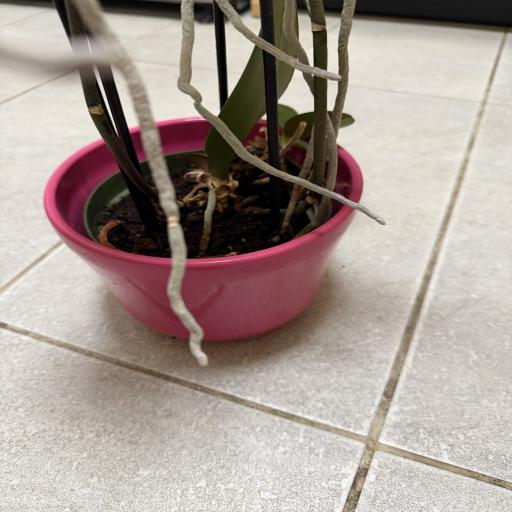Plant Pot: (42, 117, 364, 342)
